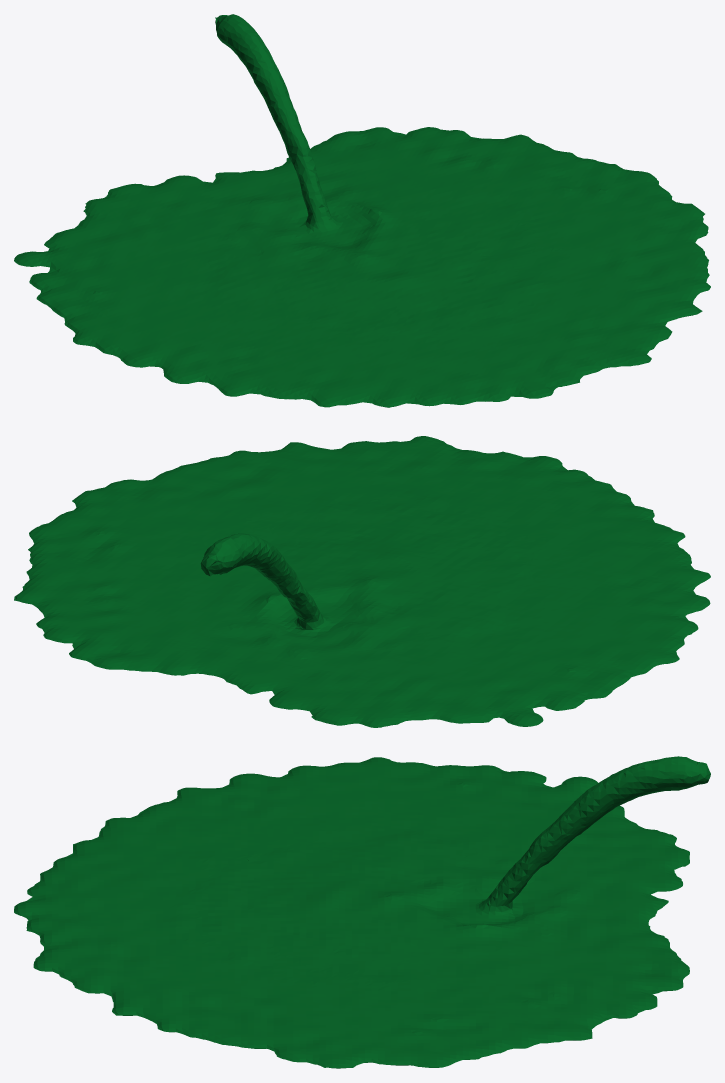
The model's file is fluid_47.fbx.
The picture shows the model from 3 angles, top to bottom: view 1: azimuth 30°, elevation 25°; view 2: azimuth 150°, elevation 25°; view 3: azimuth 270°, elevation 25°; orthographic projection. The views are drawn at different scales.
Visible parts, largest first — view 1: Cube; view 2: Cube; view 3: Cube.
Boxes of the visible parts, <box> form: Cube: <box>14,14,710,407</box>; Cube: <box>14,436,710,727</box>; Cube: <box>14,756,710,1068</box>.
Bounding box in the file's own units: 739 × 177 × 701.
